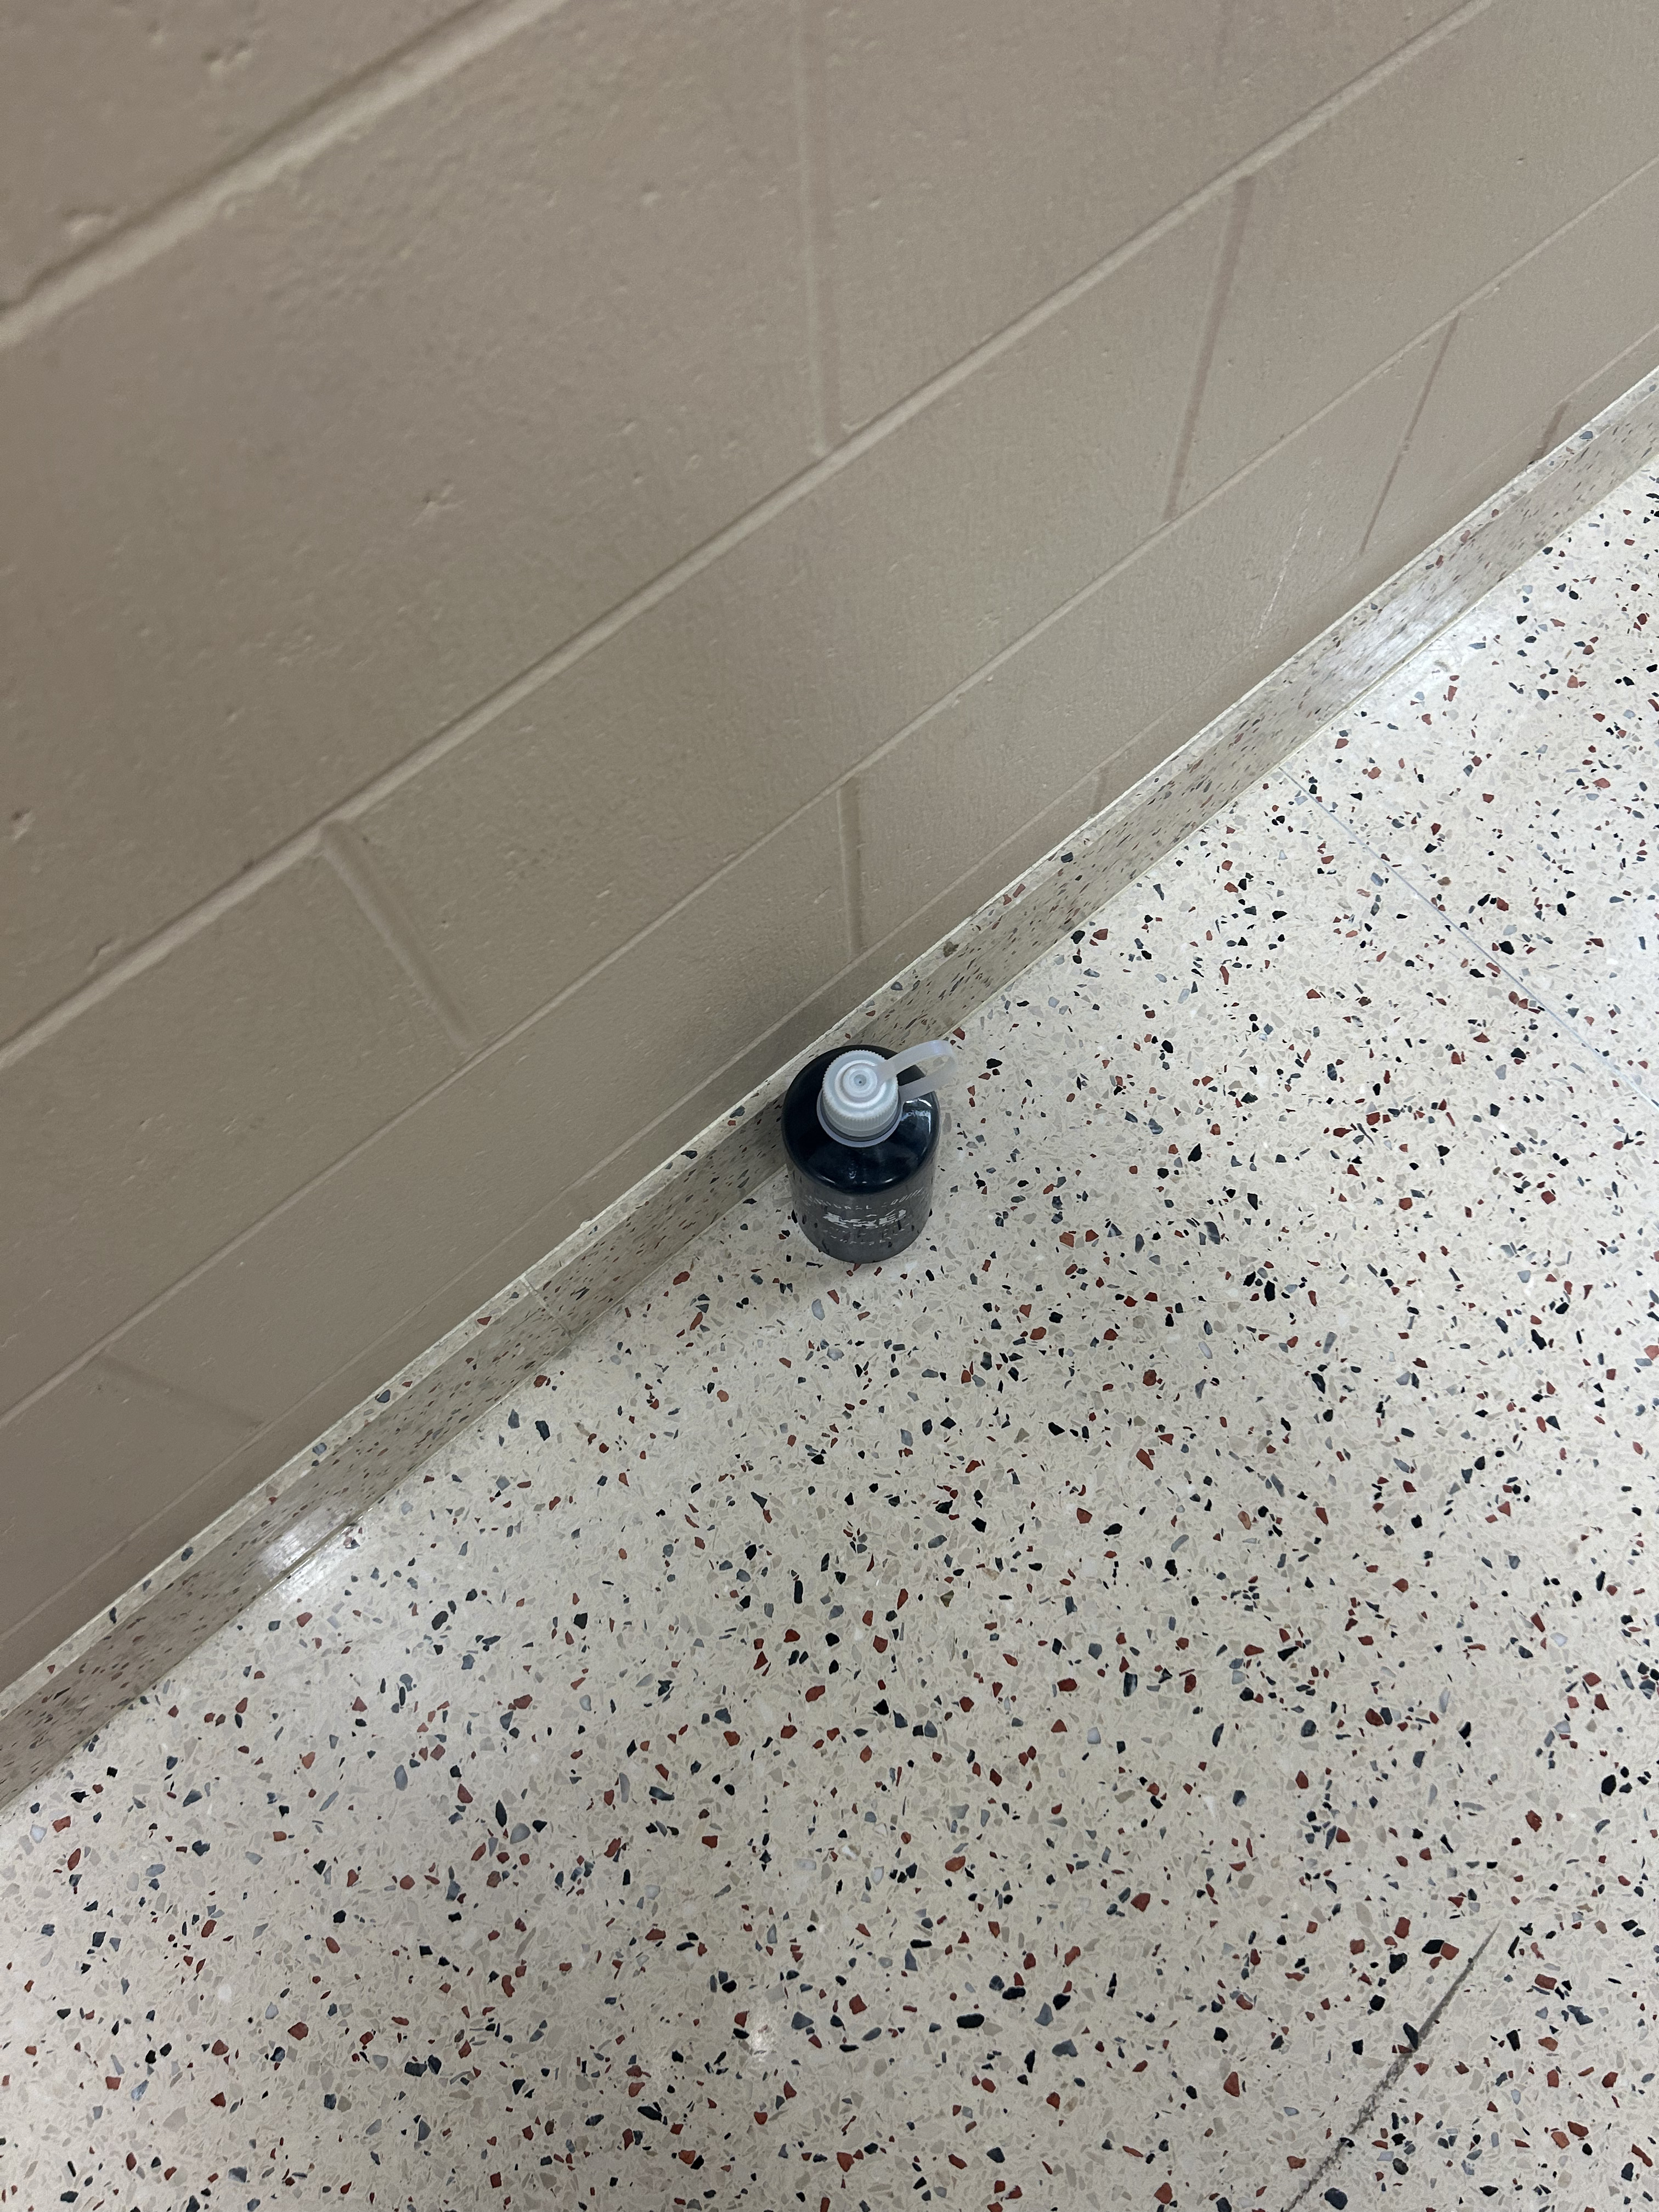bottle: (775, 1031, 960, 1273)
